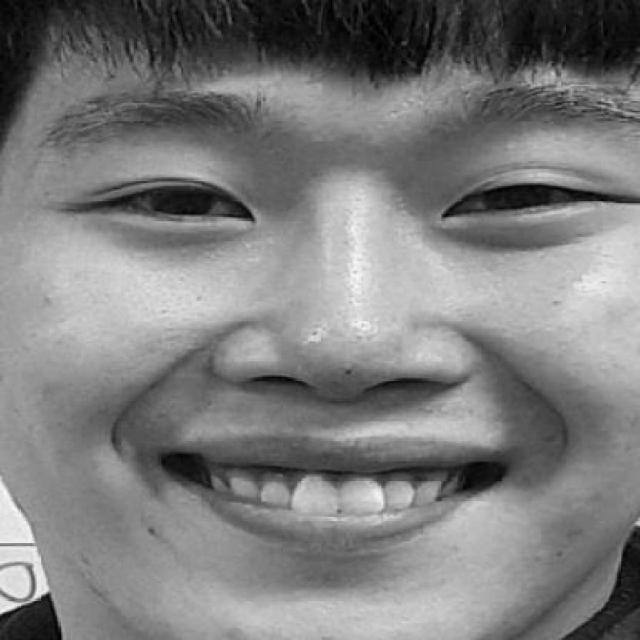happy: (4, 69, 640, 575)
